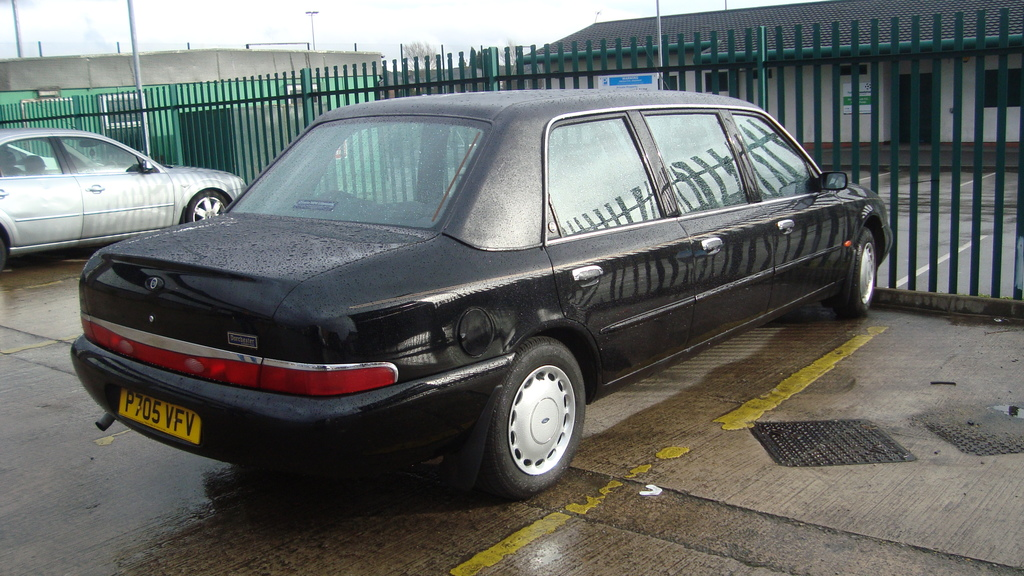Car: (69, 89, 890, 501), (0, 127, 250, 277)
